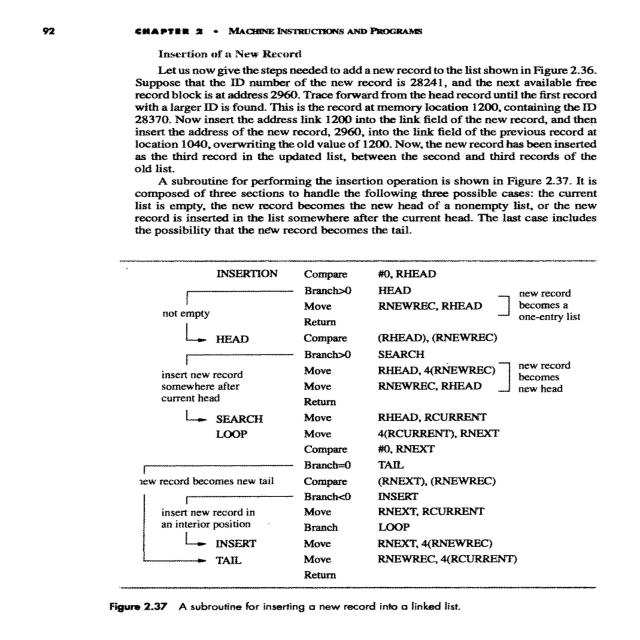diagram: (114, 254, 620, 612)
